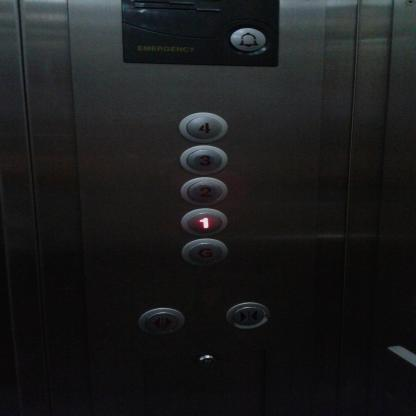1: (180, 207, 230, 236)
2: (178, 176, 229, 206)
3: (178, 146, 233, 175)
4: (177, 112, 231, 143)
G: (180, 237, 232, 267)
alarm: (226, 26, 270, 54)
close: (224, 302, 271, 330)
open: (138, 307, 186, 335)
